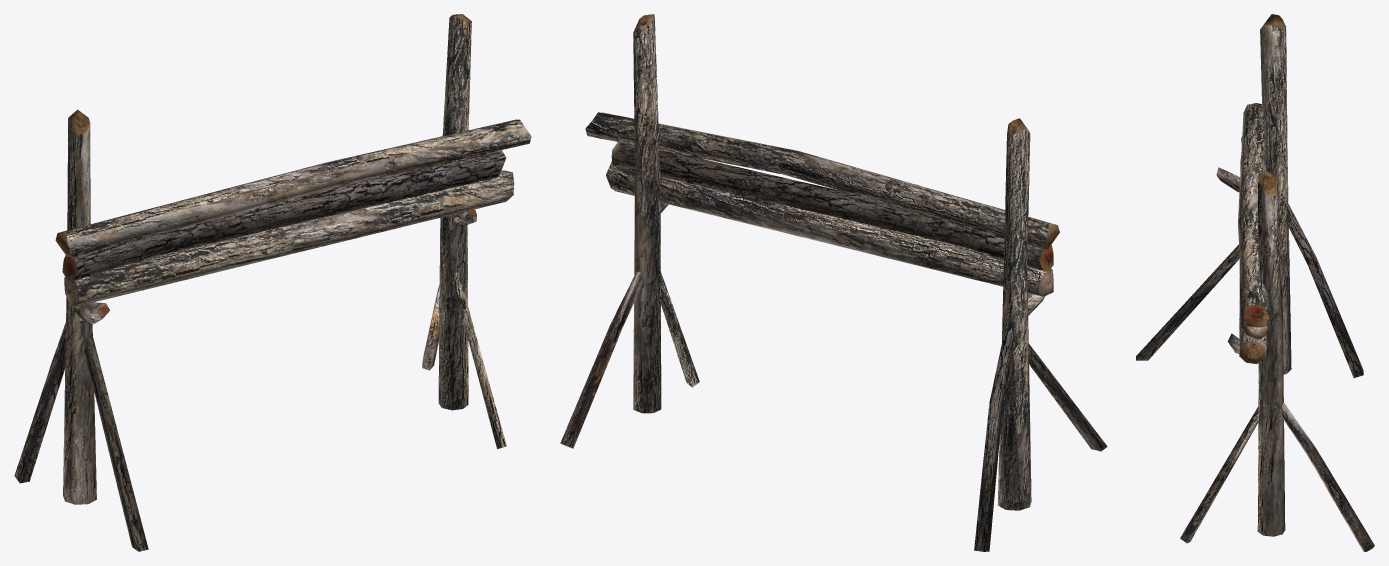
File: Prop_Mzl03.glb
3 renders of one model, left to right at view 1: azimuth 30°, elevation 25°; view 2: azimuth 150°, elevation 25°; view 3: azimuth 270°, elevation 25°, orthographic. The views are drawn at different scales.
Parts seen in each view (by area): view 1: xiutz_mzl_03; view 2: xiutz_mzl_03; view 3: xiutz_mzl_03.
Part boxes in pixels (x1,y1,x2,y2): xiutz_mzl_03: (14, 14, 531, 551); xiutz_mzl_03: (560, 14, 1107, 551); xiutz_mzl_03: (1136, 14, 1374, 551).
Bounding box in the file's own units: 16.22 × 13.72 × 7.92.
Materials: 1 (1 with a texture image).
